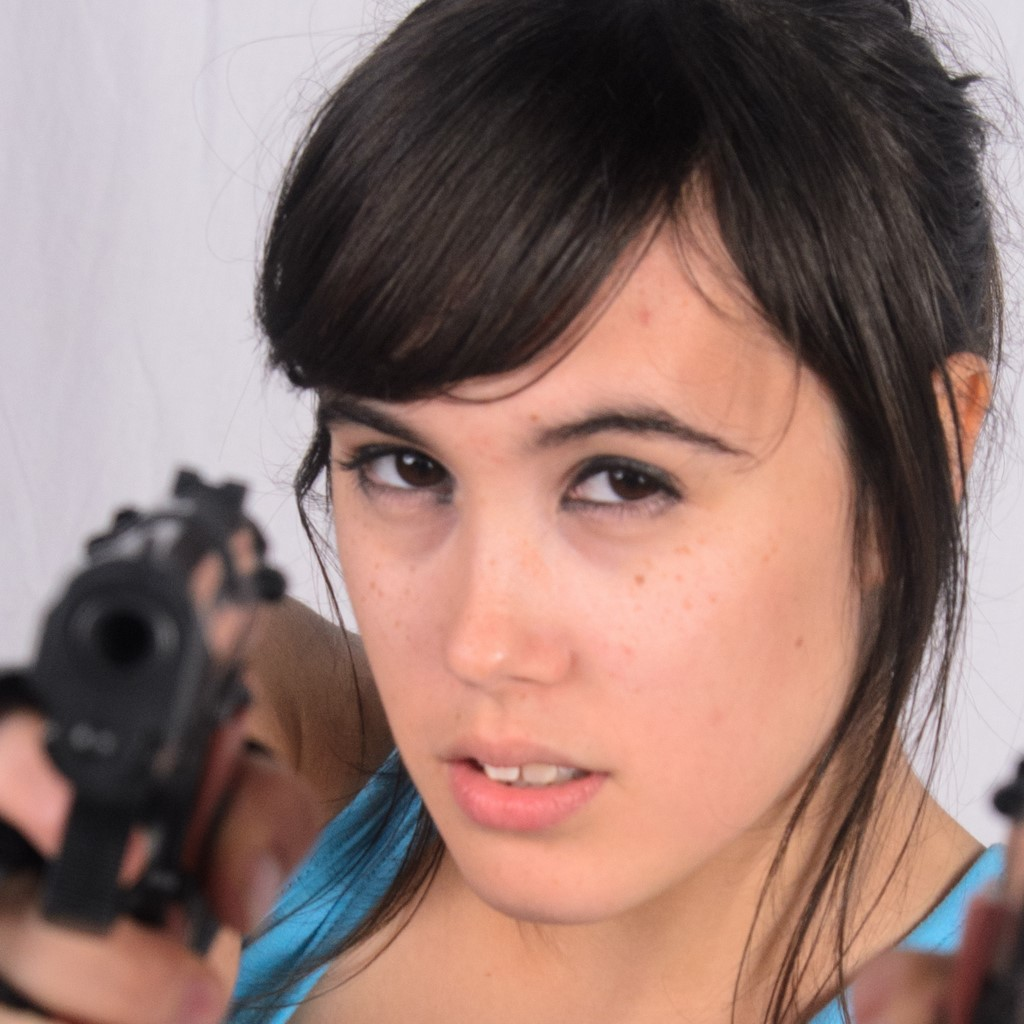sin_mascara: (323, 199, 922, 893)
